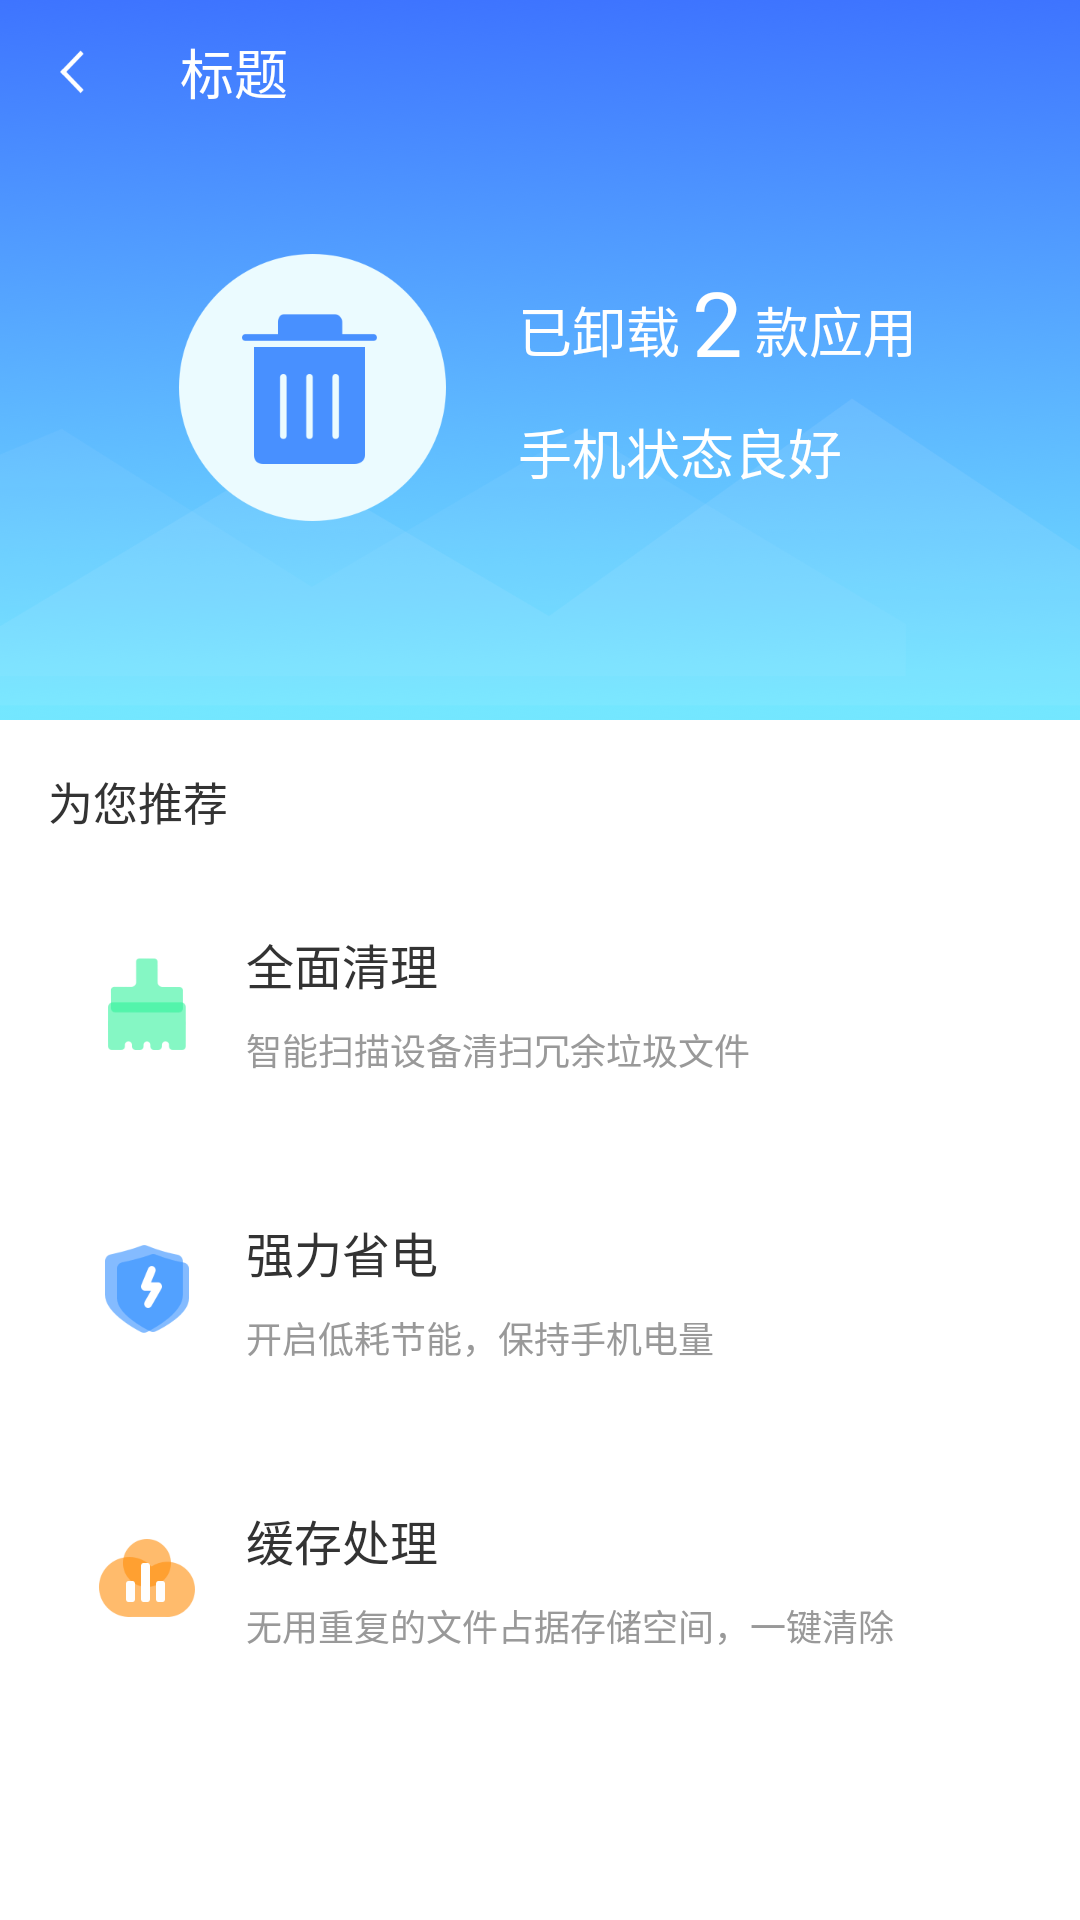

Named icons in this screenshot (1080*1920) and their centers, point (x, y):
item saving: point (147, 1289)
remove app item: point (312, 387)
